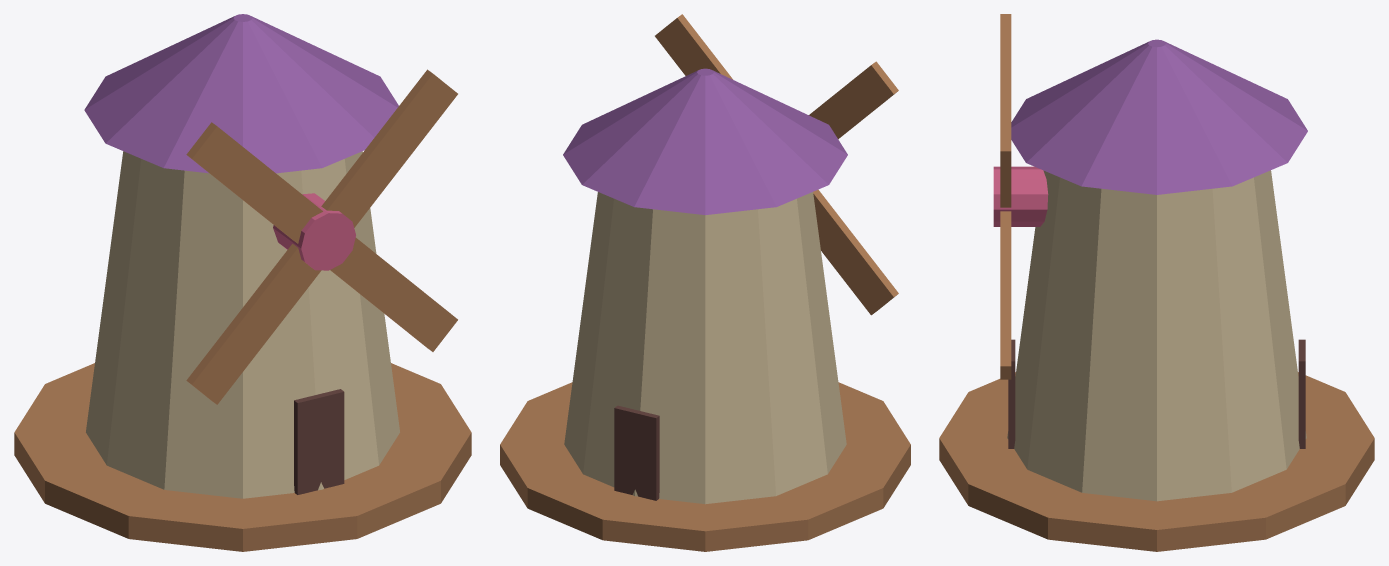
Rendered from Candyland_SugarWindmillLandmark_Simple.glb.
3 renders of one model, left to right at view 1: azimuth 30°, elevation 25°; view 2: azimuth 150°, elevation 25°; view 3: azimuth 270°, elevation 25°, orthographic. The views are drawn at different scales.
Parts seen in each view (by area): view 1: Candyland_SugarWindmillLandmark_Simple; view 2: Candyland_SugarWindmillLandmark_Simple; view 3: Candyland_SugarWindmillLandmark_Simple.
Boxes of the visible parts, x1,y1,x2,y2 form: Candyland_SugarWindmillLandmark_Simple: [14, 14, 471, 551]; Candyland_SugarWindmillLandmark_Simple: [500, 14, 910, 551]; Candyland_SugarWindmillLandmark_Simple: [939, 14, 1374, 551].
Bounding box in the file's own units: 7.2 × 7.6 × 7.2.
